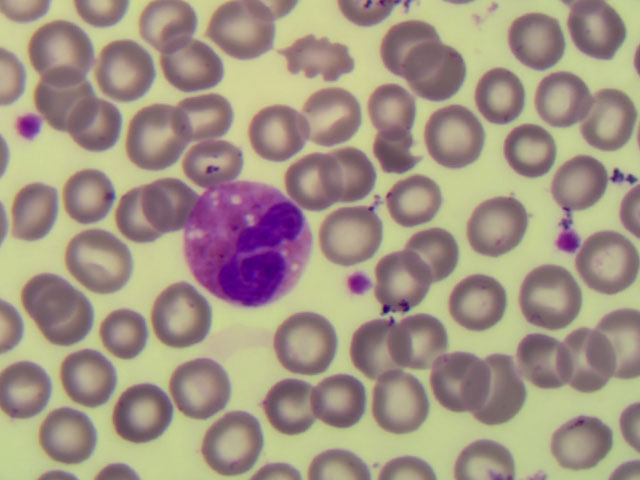Platelets: (13, 108, 40, 139), (346, 270, 371, 296), (556, 230, 581, 252)
RBC: (67, 227, 137, 291), (221, 133, 291, 197), (421, 103, 491, 167), (284, 28, 354, 92), (296, 81, 366, 145), (463, 194, 533, 258), (442, 271, 512, 335), (515, 262, 585, 326), (422, 346, 492, 410), (362, 370, 432, 434), (545, 408, 615, 472), (268, 312, 338, 376), (164, 353, 234, 417), (106, 377, 176, 441), (32, 62, 94, 134), (458, 350, 522, 416), (212, 1, 275, 64), (199, 411, 263, 473), (390, 309, 451, 374), (144, 284, 210, 344), (402, 43, 466, 104), (320, 202, 380, 266), (558, 320, 613, 389), (582, 226, 639, 292), (585, 306, 640, 374), (346, 317, 411, 374), (536, 64, 592, 129), (264, 376, 324, 436), (553, 151, 611, 213), (245, 106, 307, 163), (371, 247, 428, 309), (320, 141, 372, 208), (38, 405, 99, 462), (565, 1, 626, 58), (473, 63, 527, 127), (286, 151, 339, 215), (386, 174, 443, 232), (581, 90, 639, 146), (113, 186, 168, 244), (1, 357, 53, 418), (98, 40, 155, 95), (5, 183, 59, 241), (517, 329, 570, 387), (505, 12, 565, 63), (56, 172, 116, 222), (404, 226, 457, 282), (127, 107, 180, 163), (165, 36, 218, 92), (37, 22, 90, 78), (451, 436, 518, 480), (40, 288, 94, 342), (141, 1, 194, 56), (385, 22, 434, 81), (503, 127, 559, 177), (312, 376, 368, 426), (59, 349, 113, 400), (142, 179, 194, 231), (183, 135, 239, 183), (102, 304, 148, 359), (369, 131, 420, 178), (309, 441, 368, 480), (381, 445, 446, 480), (26, 269, 71, 319), (178, 95, 229, 137), (74, 1, 131, 34), (614, 396, 640, 454), (615, 180, 640, 240), (341, 1, 391, 30), (1, 46, 26, 103), (606, 438, 639, 480), (248, 457, 307, 480), (1, 1, 48, 29), (1, 297, 22, 358)
WBC: (186, 179, 314, 304)
